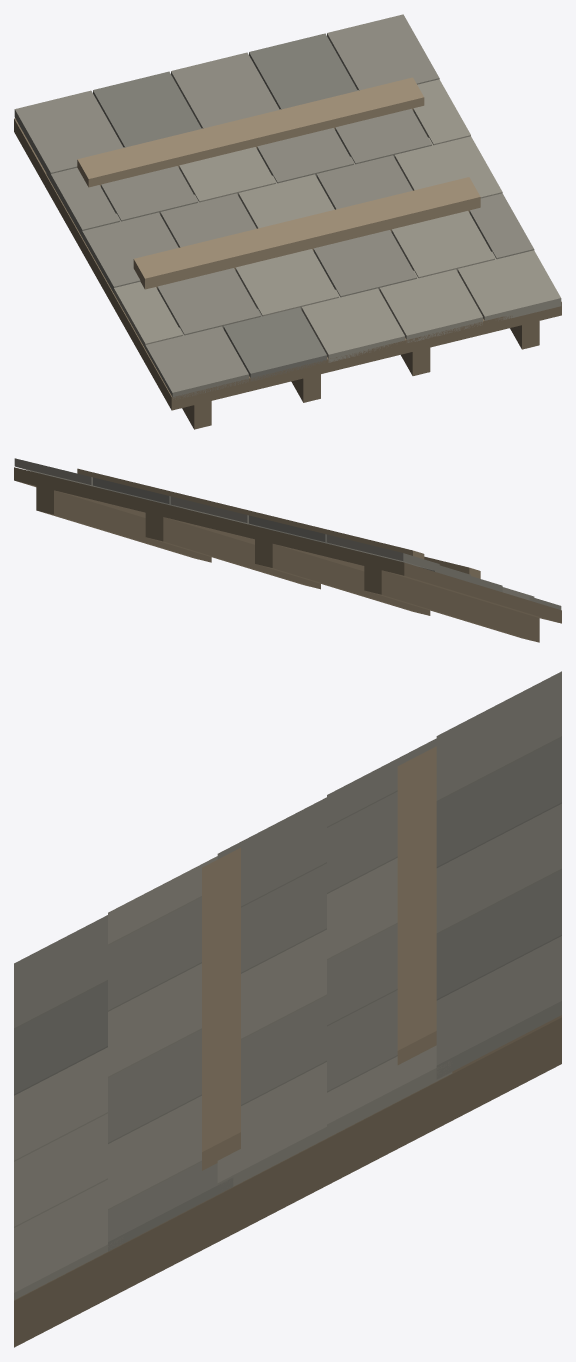
Rendered from env_roof_shingle_timber_patch_c_v02_cross_slope_repairs.glb.
3 renders of one model, top to bottom at view 1: azimuth 30°, elevation 25°; view 2: azimuth 150°, elevation 25°; view 3: azimuth 270°, elevation 25°, orthographic. The views are drawn at different scales.
Visible parts, largest first — view 1: material_4, material_5, material_3, material_6, material_2; view 2: material_2, material_4, material_3, material_6; view 3: material_4, material_5, material_2, material_3, material_6.
Boxes of the visible parts, x1,y1,x2,y2 form: material_4: (14,14,534,399); material_5: (114,79,561,362); material_3: (77,77,480,289); material_6: (93,33,357,381); material_2: (14,118,561,429); material_2: (14,467,561,642); material_4: (14,458,561,609); material_3: (77,468,480,578); material_6: (93,477,341,547); material_4: (14,671,561,1251); material_5: (14,856,452,1300); material_2: (14,1015,561,1347); material_3: (202,746,436,1170); material_6: (14,737,561,1095).
Bounding box in the file's own units: 2 × 1.03 × 1.4.
